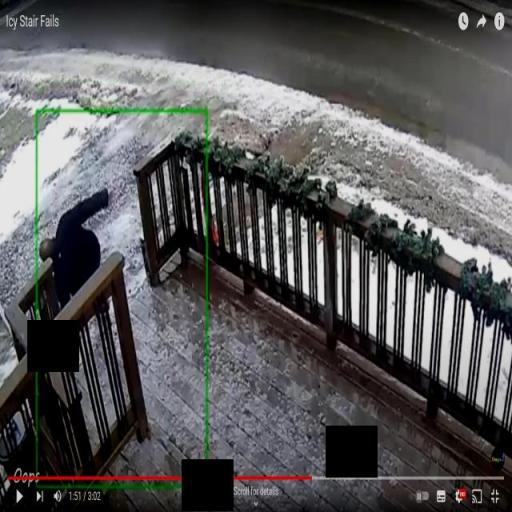Fall: (36, 183, 112, 313)
